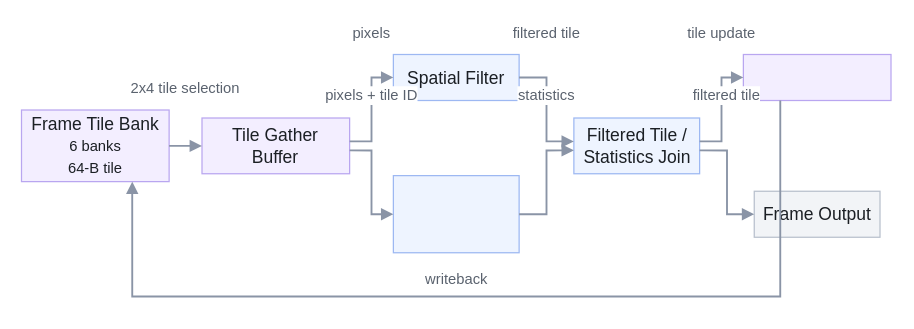
Some shapes in this 914 by 329 pixel diagram are drawn without their labels. The centre of each missing label's shape, as x and y in pixels:
Shared Histogram Service: the point at 455,213
Writeback Buffer: the point at 816,76
